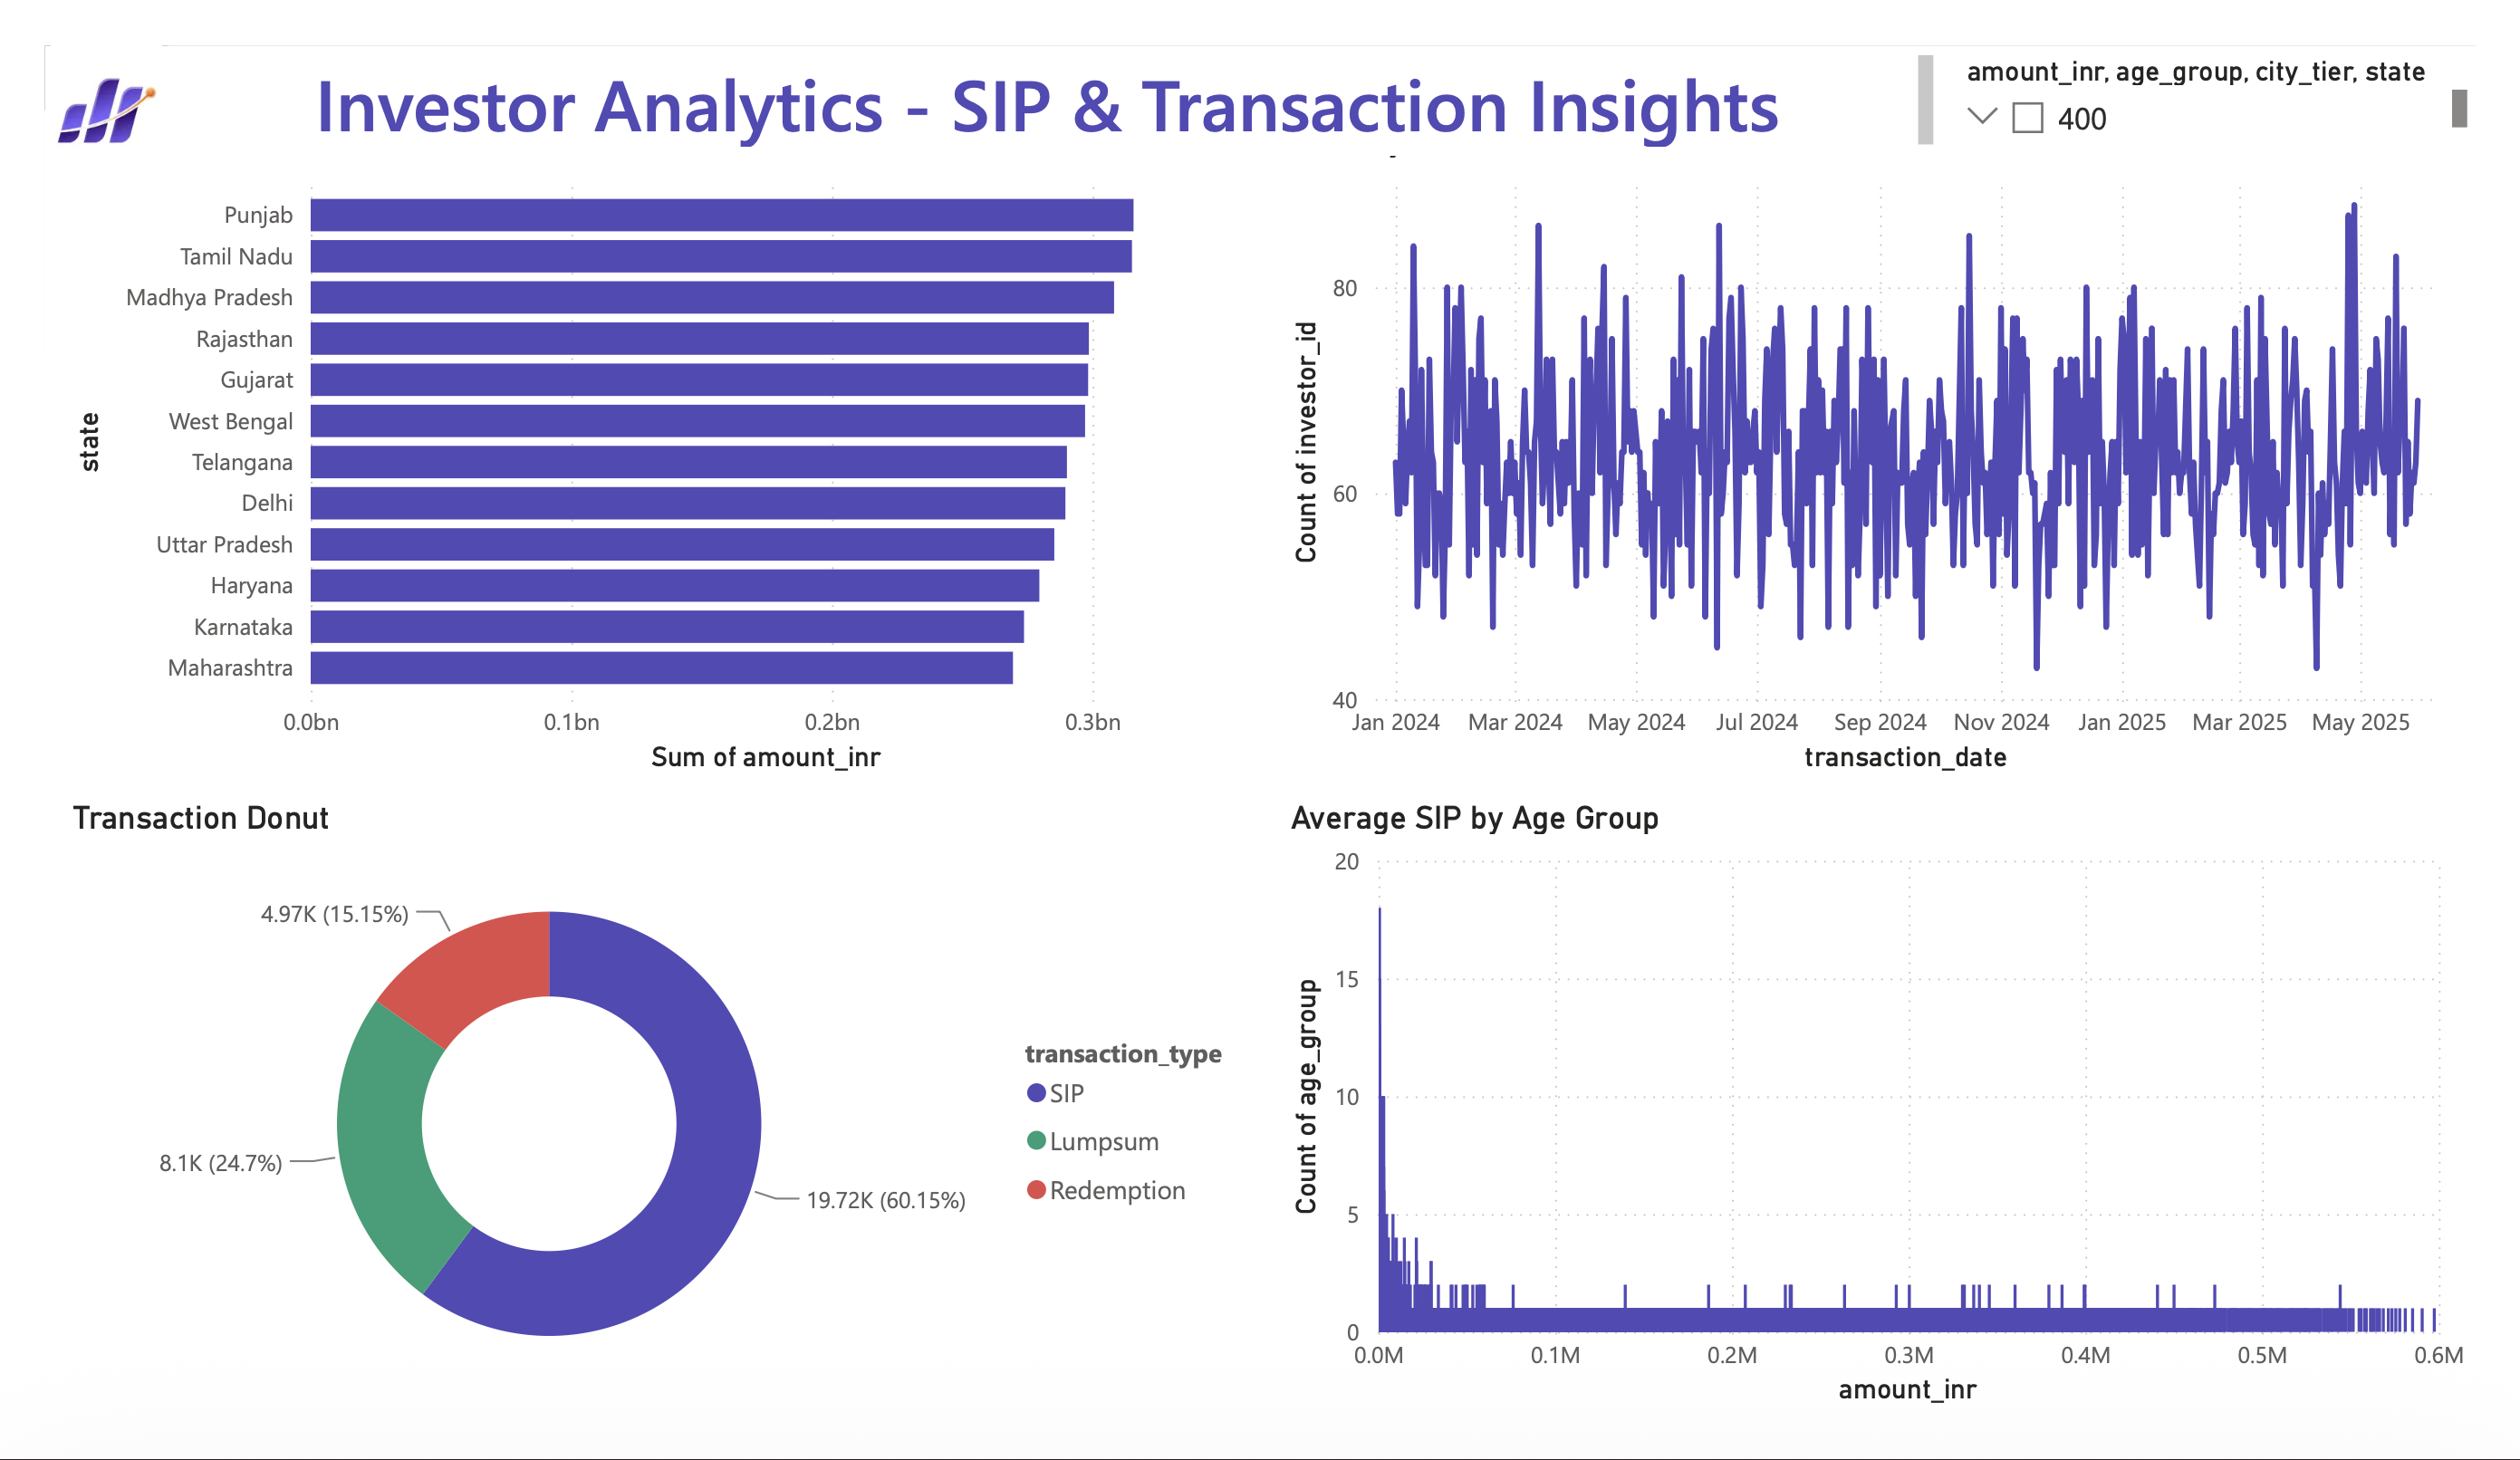

What the dashboard file says about the page in this screenshot:
{"tool":"powerbi","page":{"name":"Investor Analytics","canvas":[1280,720],"ordinal":2},"visuals":[{"type":"barChart","title":"SIP by State","fields":{"Category":["08_investor_transactions.state"],"Y":["Sum(08_investor_transactions.amount_inr)"]},"box":[10.1,40.4,630.3,346.5],"z":0},{"type":"donutChart","title":"Transaction Donut","fields":{"Category":["08_investor_transactions.transaction_type"],"Y":["CountNonNull(08_investor_transactions.investor_id)"]},"box":[10.1,396,630.3,324.2],"z":1000},{"type":"lineChart","title":"Monthly Volume","fields":{"Category":["08_investor_transactions.transaction_date.Variation.Date Hierarchy.Year"],"Y":["CountNonNull(08_investor_transactions.investor_id)"]},"box":[650.5,40.4,629.3,346.5],"z":2000},{"type":"slicer","fields":{"Values":["08_investor_transactions.amount_inr","08_investor_transactions.age_group","08_investor_transactions.city_tier","08_investor_transactions.state"]},"box":[999,0,280.8,57.6],"z":3000},{"type":"textbox","box":[64.6,0,934.3,57.6],"z":4000},{"type":"image","box":[0,0,64.6,68.7],"z":4001},{"type":"clusteredColumnChart","title":"Average SIP by Age Group","fields":{"Y":["CountNonNull(08_investor_transactions.age_group)"],"Category":["08_investor_transactions.amount_inr"]},"box":[651,396,629,324],"z":4002}]}

Visuals, with their boxes in screenshot pixels (x1, y1, x2, y2), scaled from the page's 1280x720 canvas onto the 2520x1460 screenshot:
"SIP by State" barChart: pyautogui.locateOnScreen(20, 82, 1261, 784)
"Transaction Donut" donutChart: pyautogui.locateOnScreen(20, 803, 1261, 1459)
"Monthly Volume" lineChart: pyautogui.locateOnScreen(1281, 82, 2519, 784)
slicer - 08_investor_transactions.amount_inr x 08_investor_transactions.age_group: pyautogui.locateOnScreen(1967, 0, 2519, 117)
textbox: pyautogui.locateOnScreen(127, 0, 1967, 117)
image: pyautogui.locateOnScreen(0, 0, 127, 139)
"Average SIP by Age Group" clusteredColumnChart: pyautogui.locateOnScreen(1282, 803, 2519, 1459)
